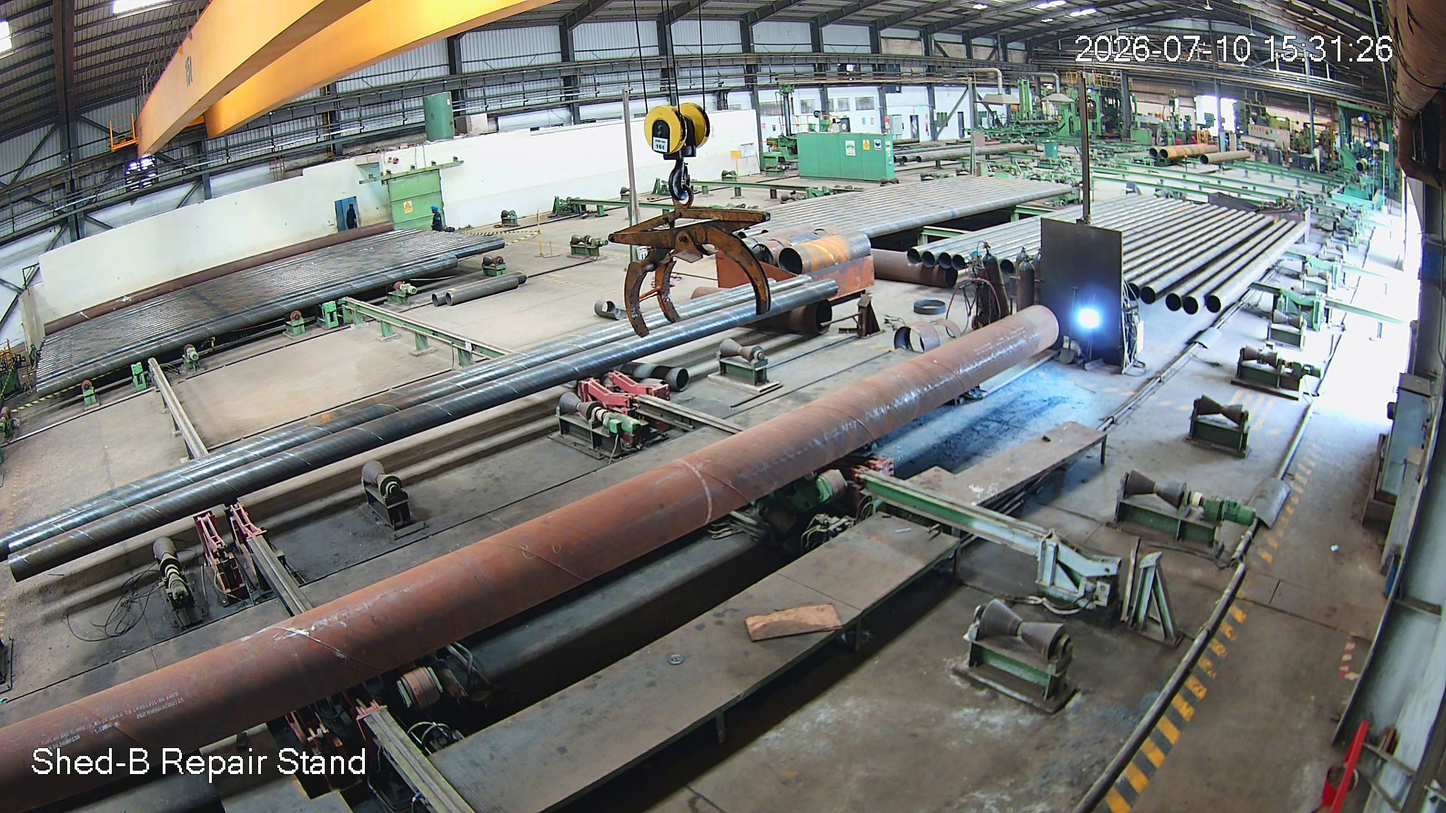Helmet: (430, 204, 441, 214)
Person: (427, 205, 442, 234)
